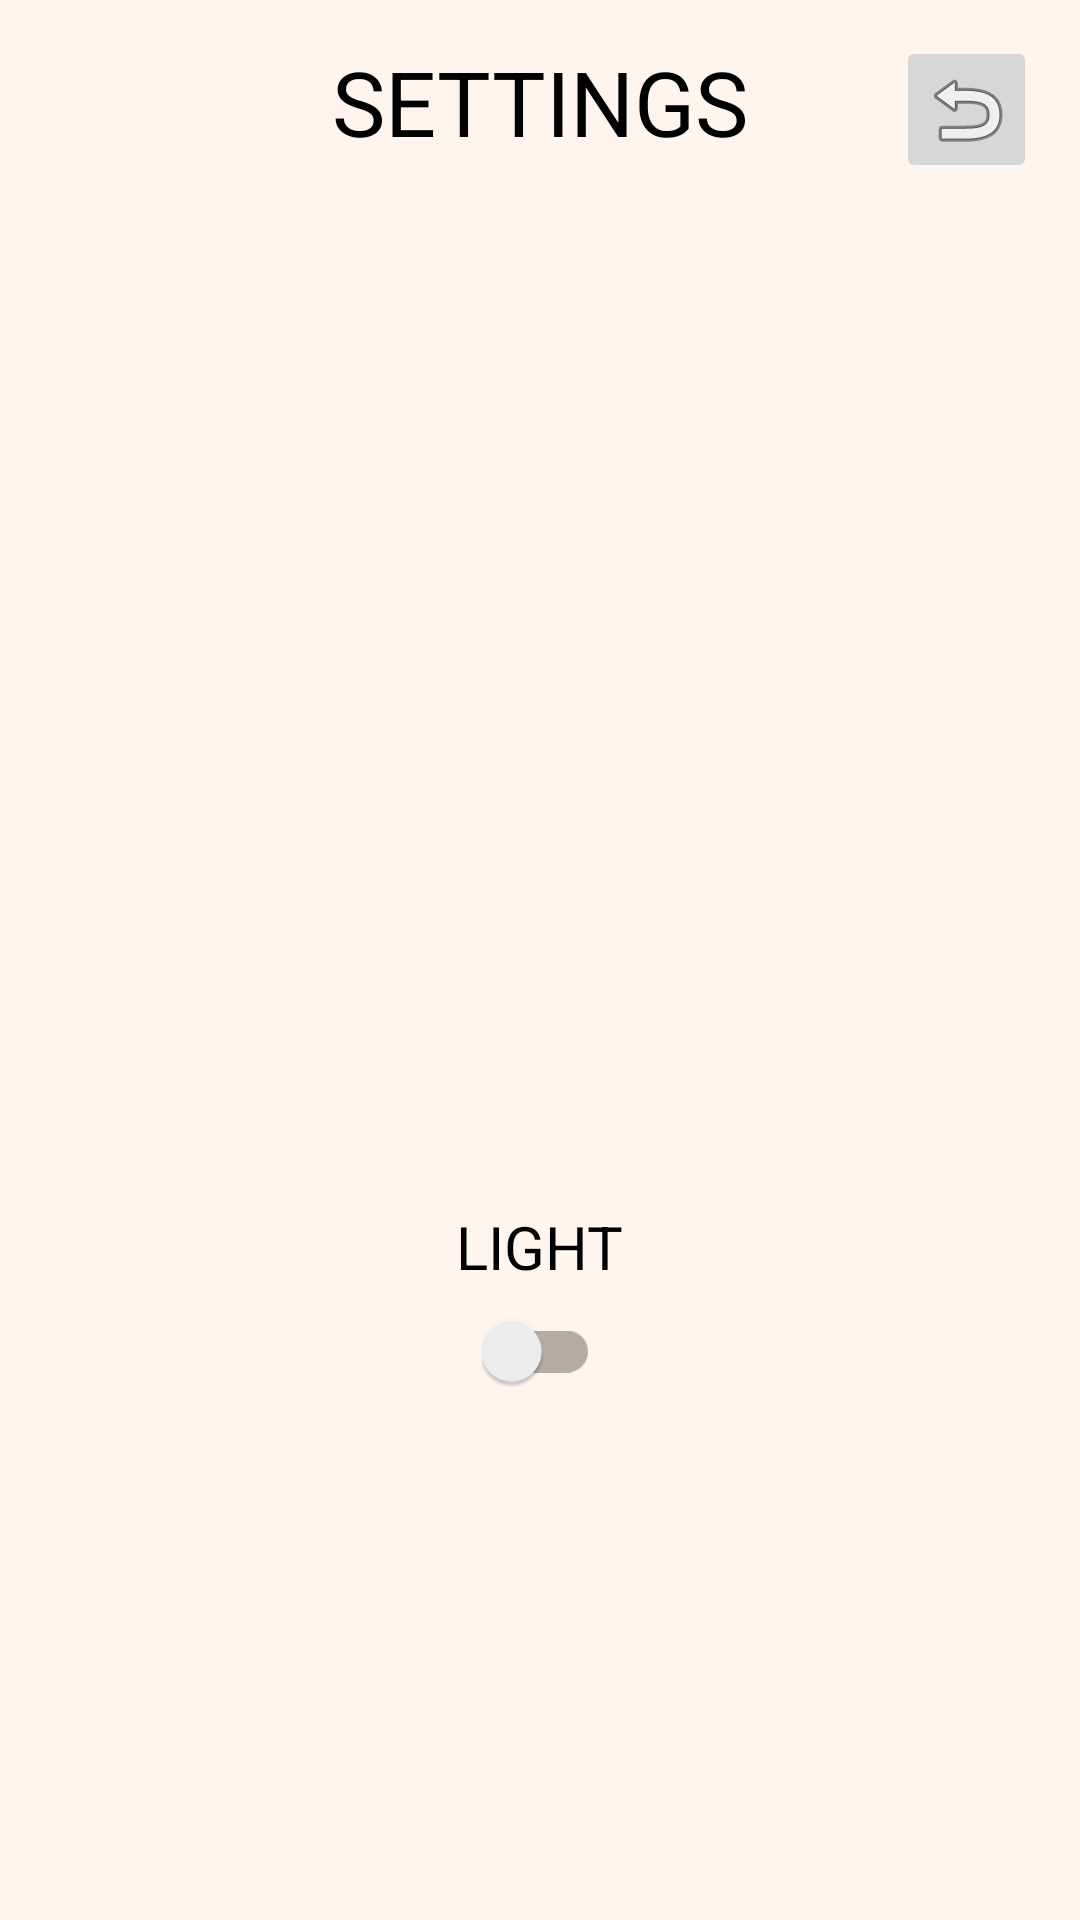

Point at icon controls on the screen. Image size 1080px x 1920px, points as (x=x, y=y).
revert: (x=966, y=109)
